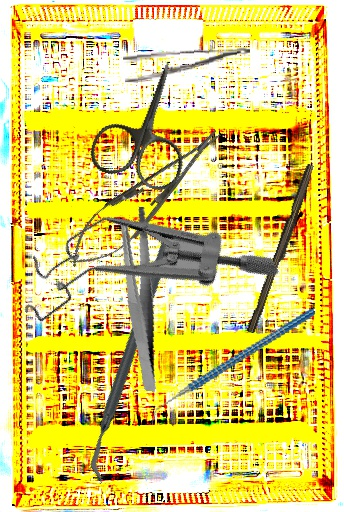Chopper: (9, 227, 259, 485), (134, 308, 332, 426)
Dressing Forceps: (92, 203, 188, 393), (123, 45, 252, 84)
Iris Scissors: (84, 48, 214, 196)
Needle Holder: (56, 115, 235, 283)
Scalpel Handle: (246, 162, 318, 336)
Speculum: (0, 147, 282, 399)
